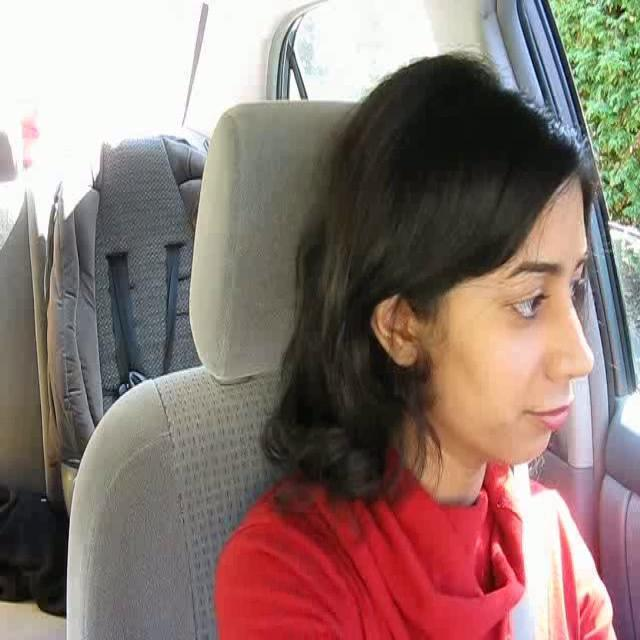open: (488, 256, 564, 335)
